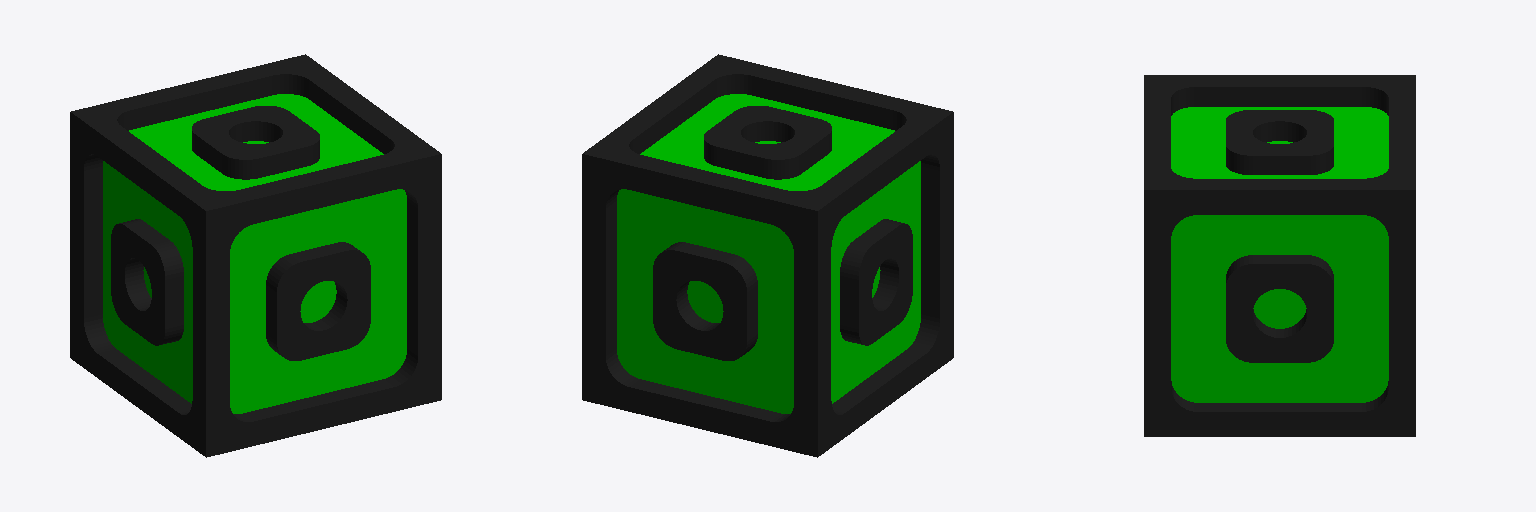
The model's file is Piece4.obj.
3 renders of one model, left to right at view 1: azimuth 30°, elevation 25°; view 2: azimuth 150°, elevation 25°; view 3: azimuth 270°, elevation 25°, orthographic.
Parts seen in each view (by area): view 1: Pièce4; view 2: Pièce4; view 3: Pièce4.
Boxes of the visible parts, x1,y1,x2,y2 form: Pièce4: [70, 54, 441, 457]; Pièce4: [582, 54, 953, 457]; Pièce4: [1144, 75, 1415, 436].
Bounding box in the file's own units: 21.72 × 21.72 × 21.72.